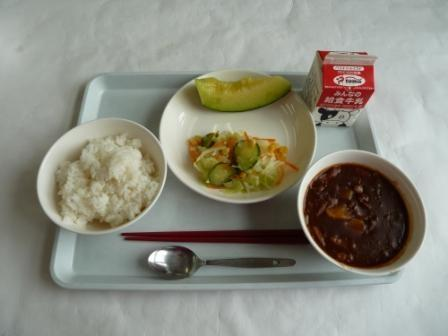Milk: (301, 34, 380, 126)
Rice: (43, 118, 160, 236)
Salad: (183, 116, 292, 193)
melon: (192, 62, 293, 117)
soup-plain: (303, 143, 422, 276)
